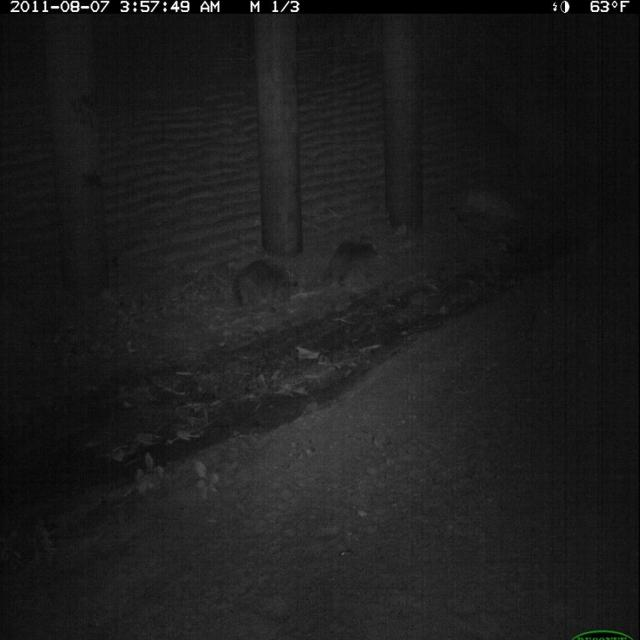raccoon: (228, 256, 296, 318), (318, 236, 382, 292)
